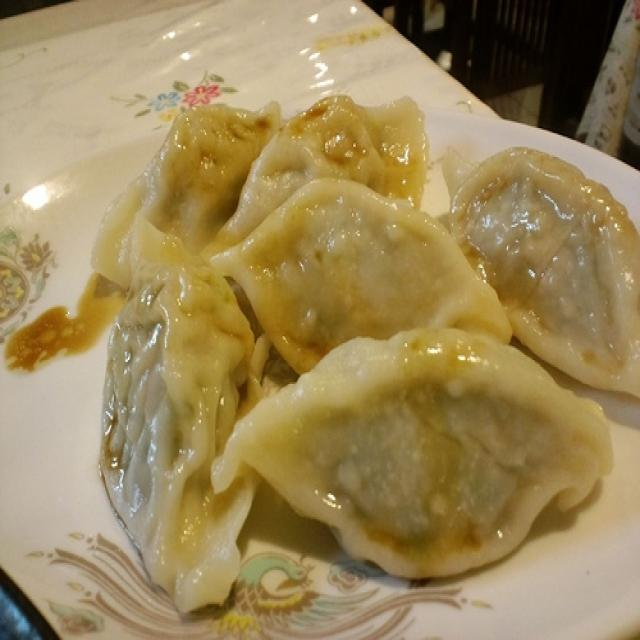带馅早点: (73, 63, 616, 599)
